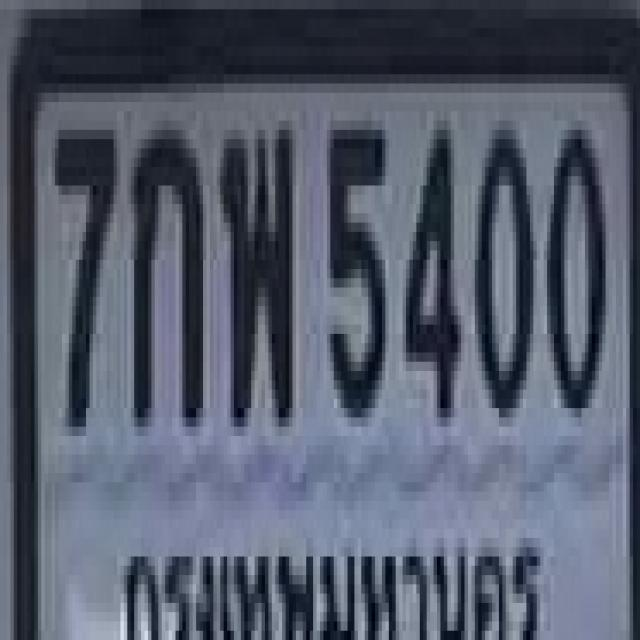0: (471, 121, 530, 408), (544, 121, 602, 408)
4: (402, 121, 458, 408)
5: (327, 121, 382, 408)
7: (52, 120, 114, 427)
A01: (130, 120, 200, 418)
A30: (220, 120, 289, 418)
BKK: (120, 533, 546, 640)
